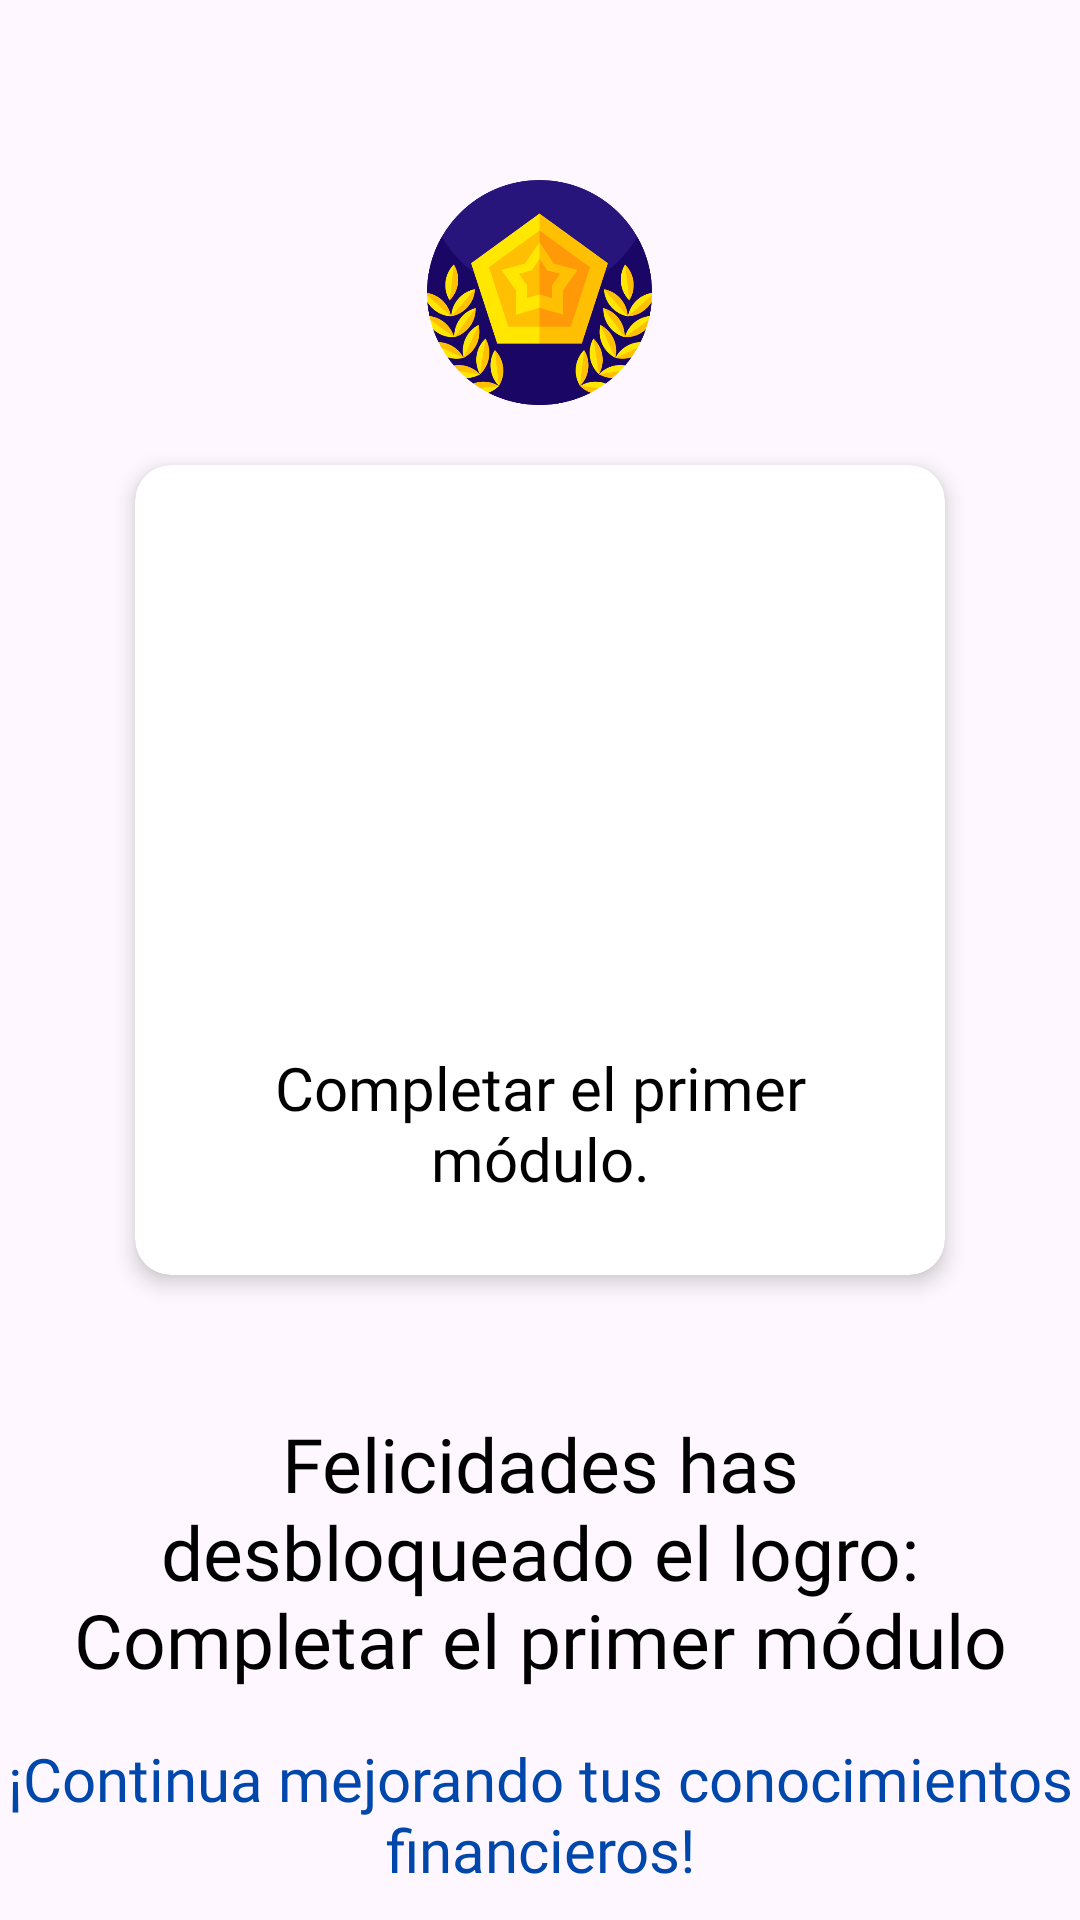

Screen size 1080w x 1920h. Icon name, then its center in pixels as (x=x, y=y):
insignia: (x=539, y=292)
